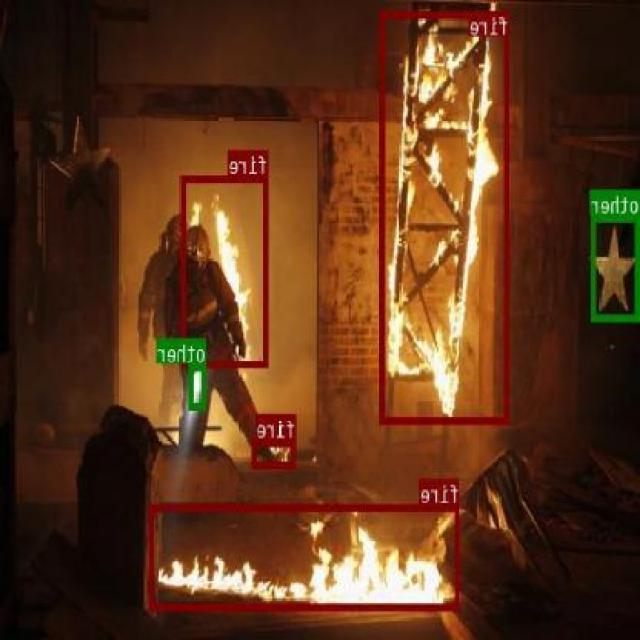Fire: (381, 11, 510, 423), (150, 504, 461, 608), (183, 174, 269, 366), (252, 438, 297, 468)
